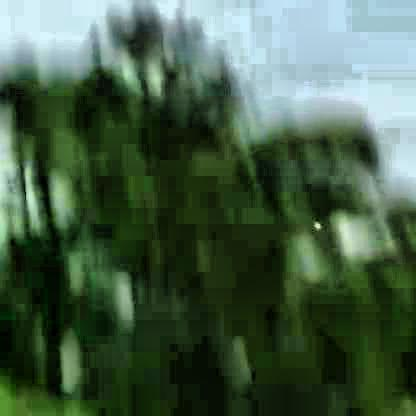golfball: (309, 218, 319, 228)
